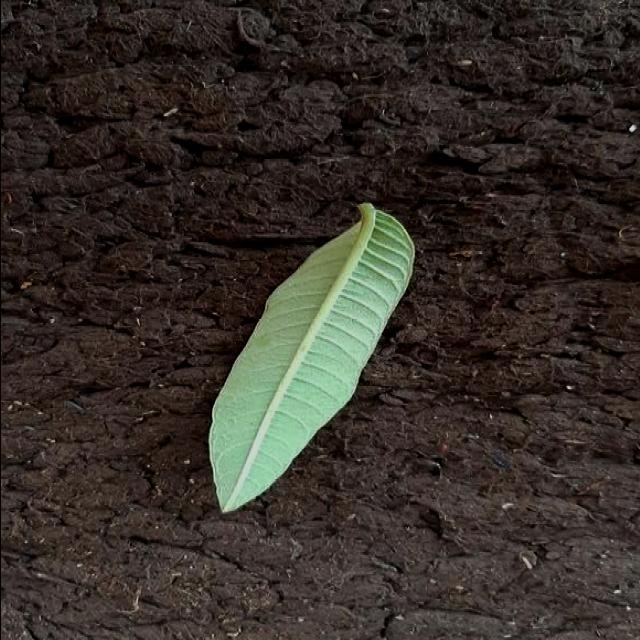leaf: (207, 201, 415, 514)
